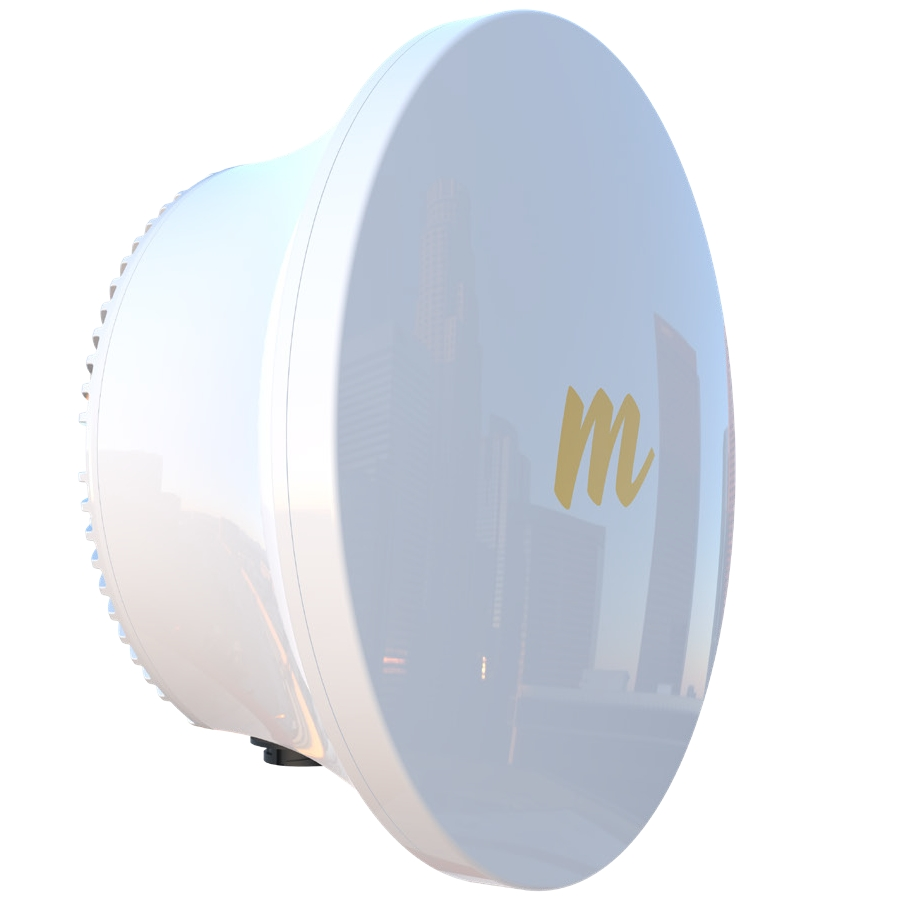ba: (36, 16, 789, 890)
